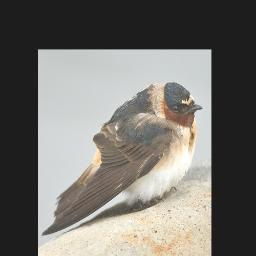Swallow: (40, 81, 203, 237)
